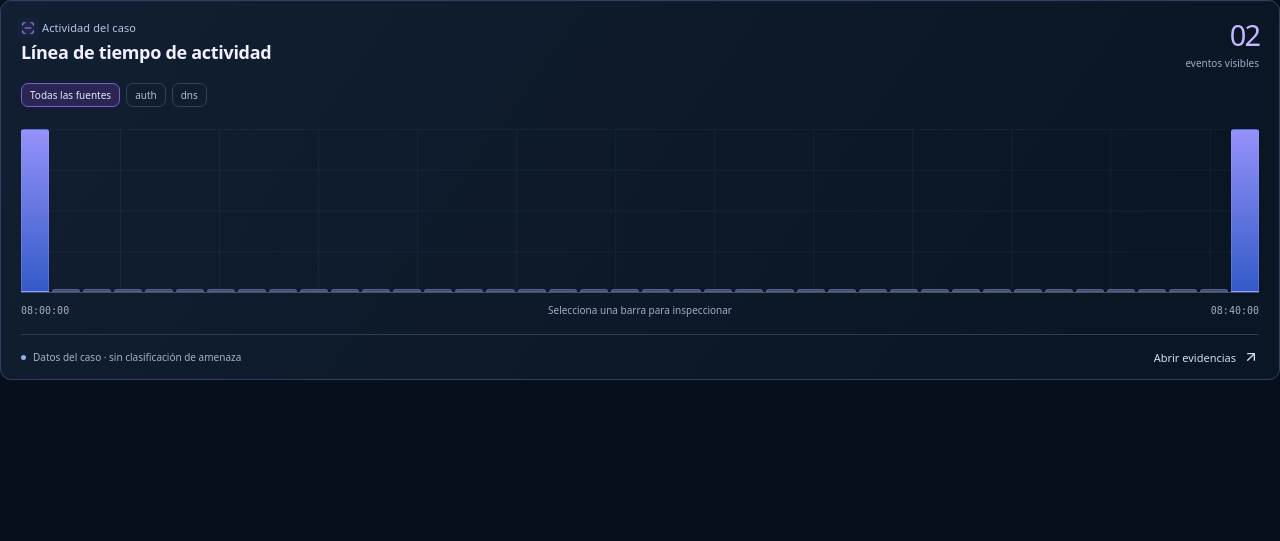
SignalMap › includes both time boundaries without changing the source event order
Click the button named ": 1 evento": (35, 210) [21,129,49,292]
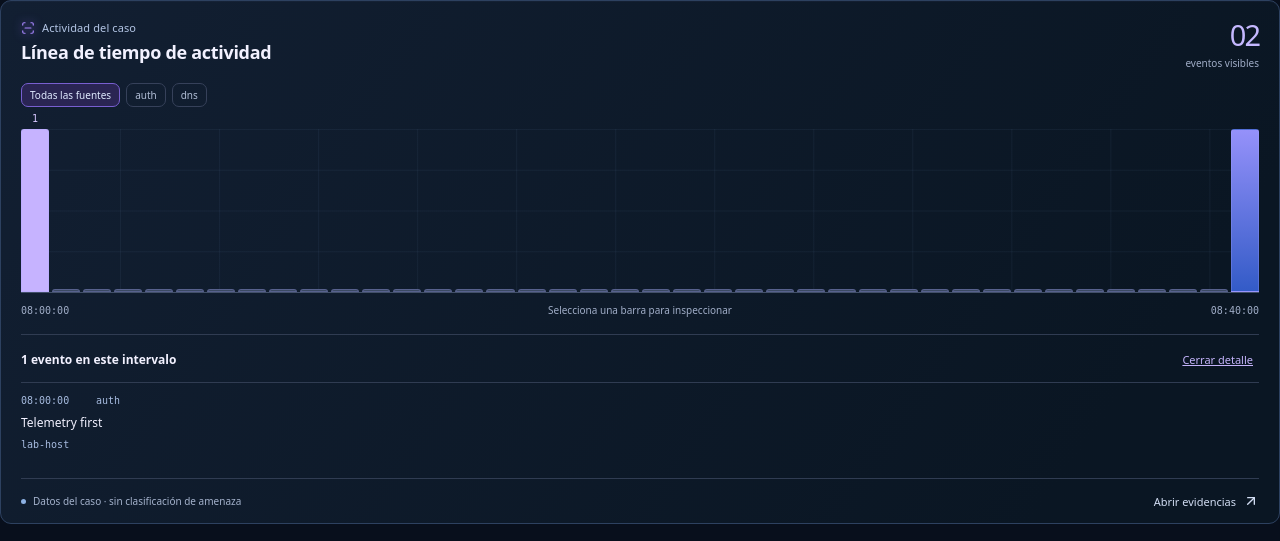
Now the text "Telemetry first" is shown, box [21,414,102,431]
Click the button named ": 1 evento": (1245, 210) [1231,129,1259,292]
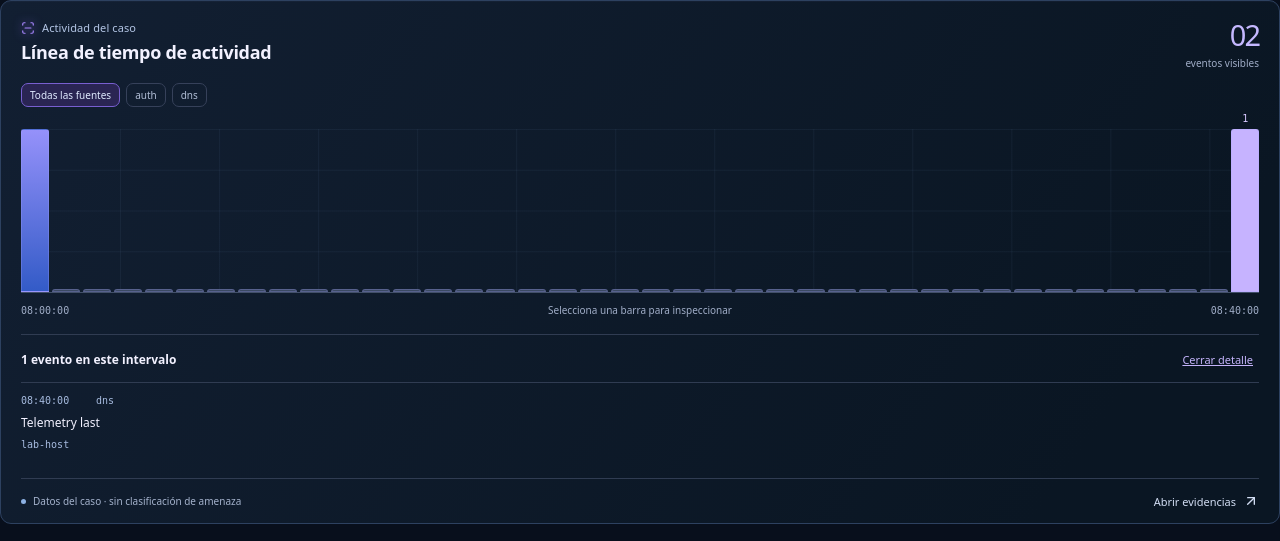
Now the text "Telemetry last" is shown, box [21,414,100,431]
Now the text "Telemetry first" is gone
